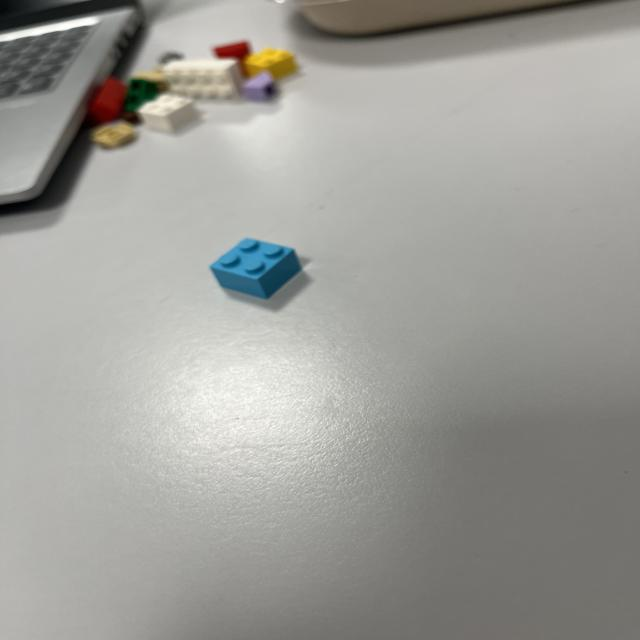C2x2x1: (208, 236, 303, 300)
